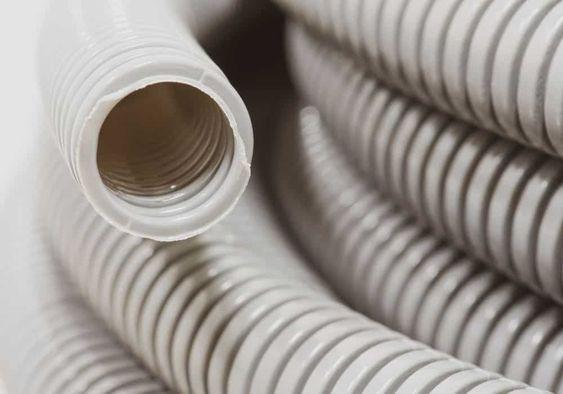PVC: (19, 2, 300, 262)
